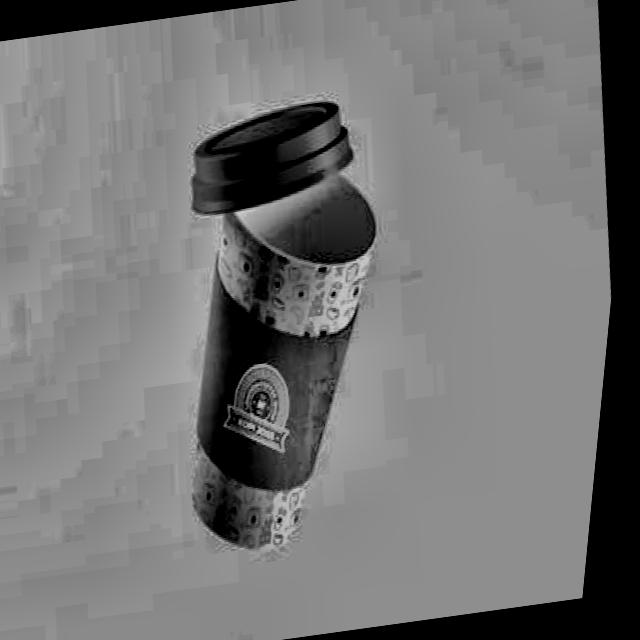Cup: (130, 97, 445, 579)
